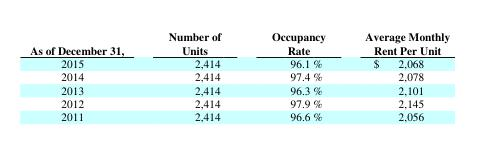table: (29, 28, 449, 123)
table column: (29, 28, 145, 123), (344, 28, 449, 123), (145, 28, 245, 123), (245, 28, 344, 123)
table column header: (29, 28, 449, 56)
table row: (29, 28, 449, 56), (29, 82, 449, 96), (29, 109, 449, 123), (29, 56, 449, 69), (29, 69, 449, 82), (29, 96, 449, 109)
